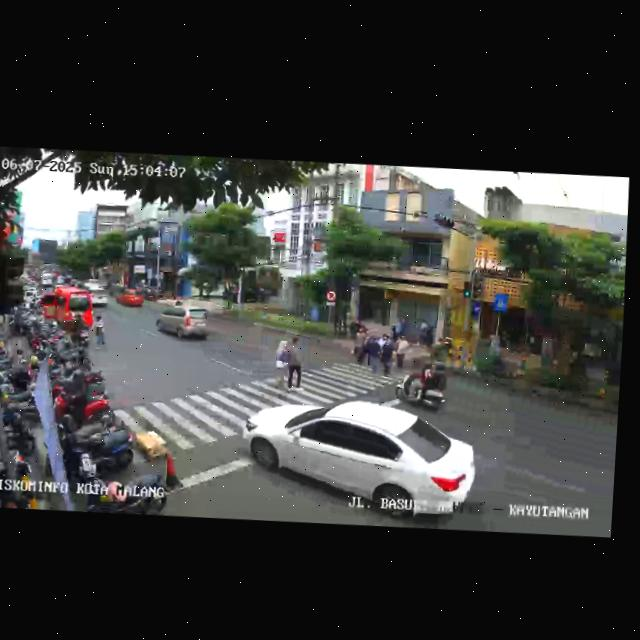car: (243, 392, 479, 532), (39, 285, 94, 336), (154, 302, 211, 345), (116, 287, 145, 311)
motorcycle: (395, 355, 450, 414)
person: (286, 334, 305, 390), (273, 338, 292, 392), (376, 331, 395, 376), (394, 333, 410, 369), (352, 326, 366, 362), (367, 334, 380, 371)
